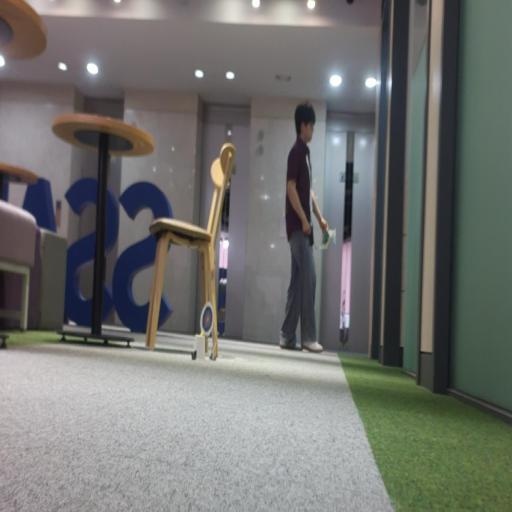target: (201, 302, 213, 336)
